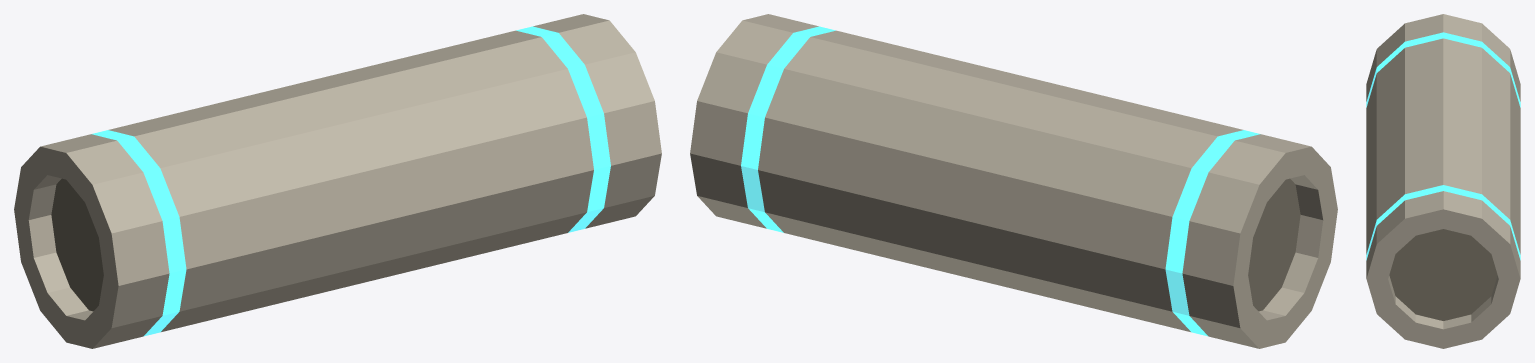
Rendered from PipeShort.fbx.
3 views of the same model, side by side, from view 1: azimuth 30°, elevation 25°; view 2: azimuth 150°, elevation 25°; view 3: azimuth 270°, elevation 25° (orthographic). The views are drawn at different scales.
Parts seen in each view (by area): view 1: PipeShort; view 2: PipeShort; view 3: PipeShort.
Part boxes in pixels (x1,y1,x2,y2): PipeShort: (14,14,661,348); PipeShort: (690,14,1337,348); PipeShort: (1366,14,1520,348).
Size of the model in its own units: 360 by 120 by 120.
